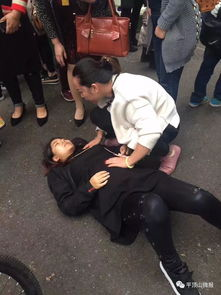10+: (2, 1, 221, 179)
down: (41, 133, 221, 294)
